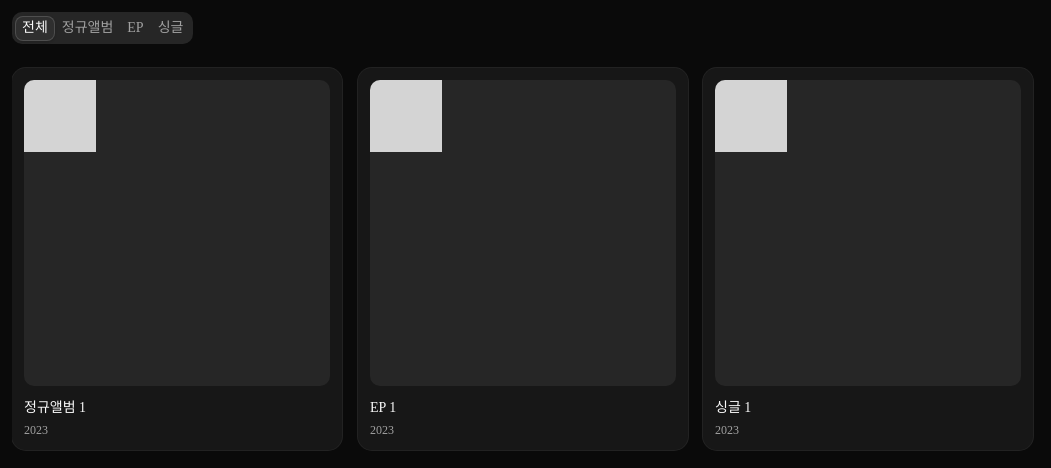
Scenario: AlbumGrid › 싱글 탭 선택 시 album_type=single인 앨범만 보인다
Click the tab "싱글".
click(170, 28)  # box [151, 16, 190, 40]
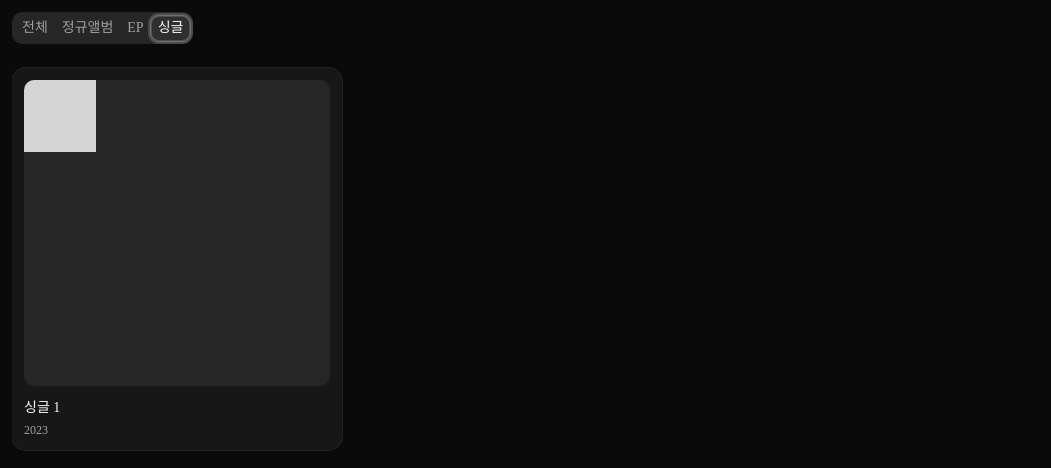
Check: the text "싱글 1" is shown, box [24, 400, 60, 414]
Check: the link "정규앨범 1" is gone
Check: the link "EP 1" is gone
